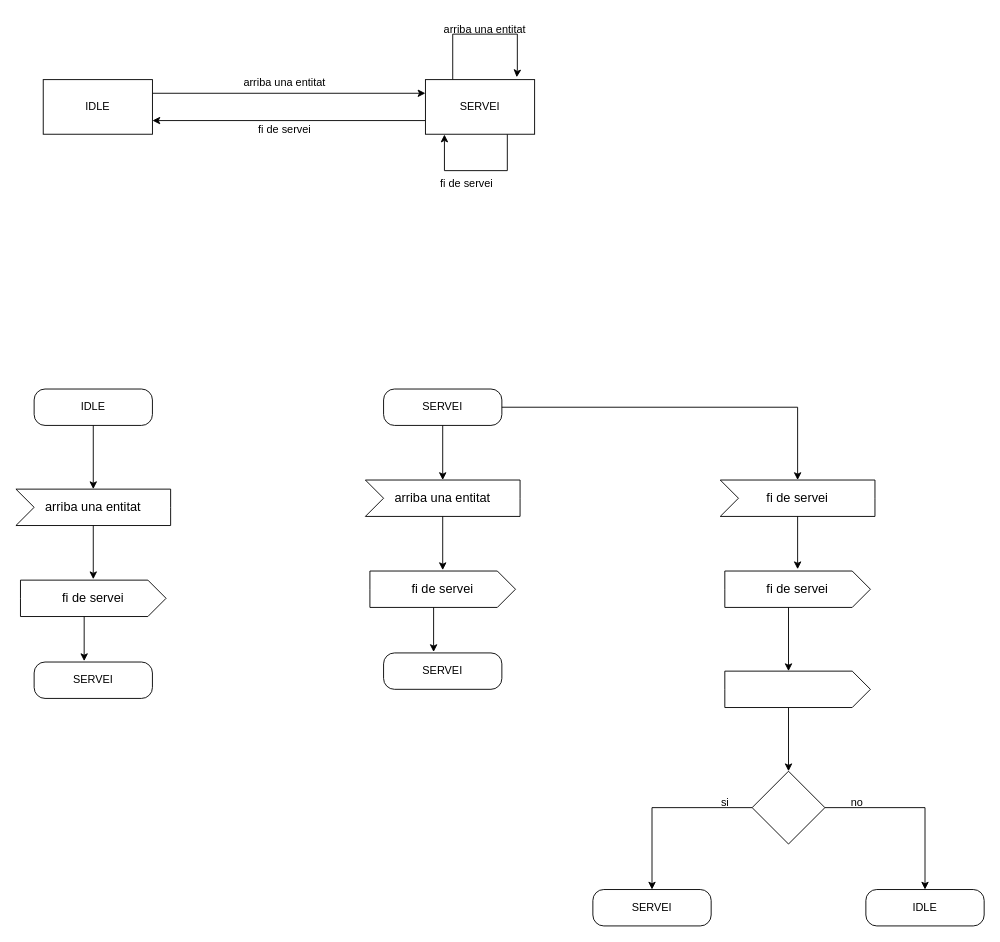
This 1000x942 diagram has some shape labels left out. The shapes that lost their labels are listed below. From the top down, each one's centre as x and y in pixels, then its label:
point (797, 689): Tractar Esdeveniment
point (788, 807): queden entitats pendents?
